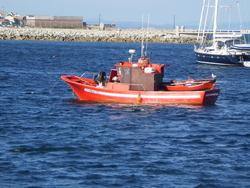otherboat: (56, 48, 221, 109)
